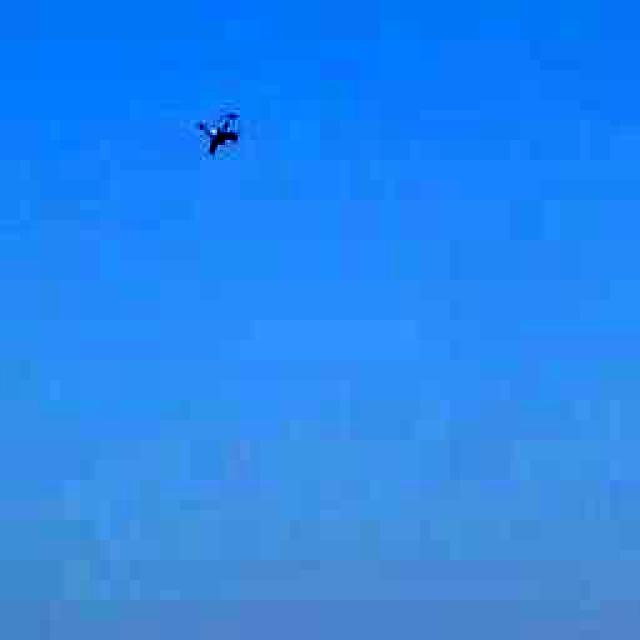bird: (182, 91, 260, 169)
